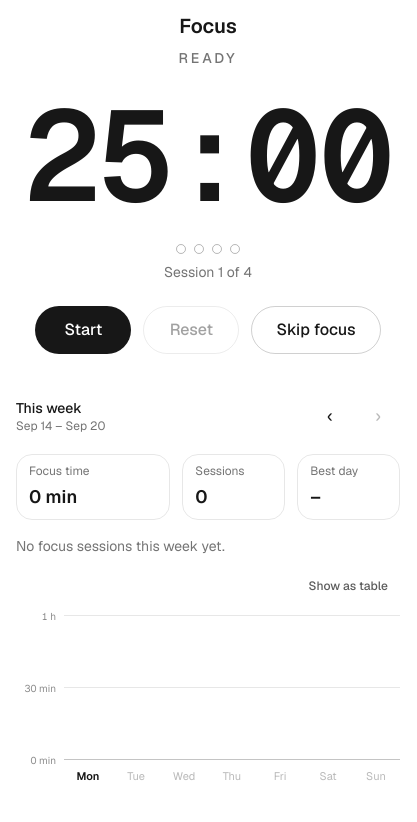
when a focus session finishes › moves to a short break that waits for you to start it
The image size is (417, 822).
Click the button "Start" at x=83, y=330, box [35,306,131,354]
Wait 1560000 ms
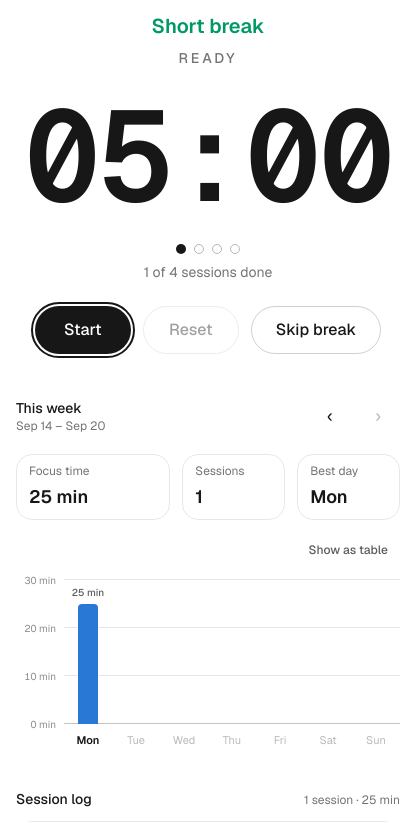
Check: the heading "Short break" is shown, box [151,12,265,40]
Check: the text "1 of 4 sessions done" is shown, box [144,262,272,282]
Check: the button "Skip break" is shown, box [251,306,381,354]
